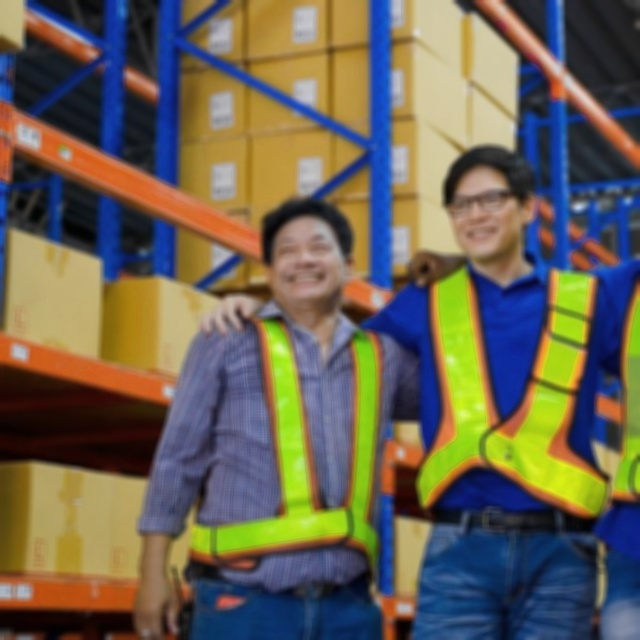Con_Chaleco: (413, 260, 610, 523), (199, 307, 388, 573)
Sin_Casco_Mascarrilla: (441, 145, 540, 258), (260, 198, 356, 310)
